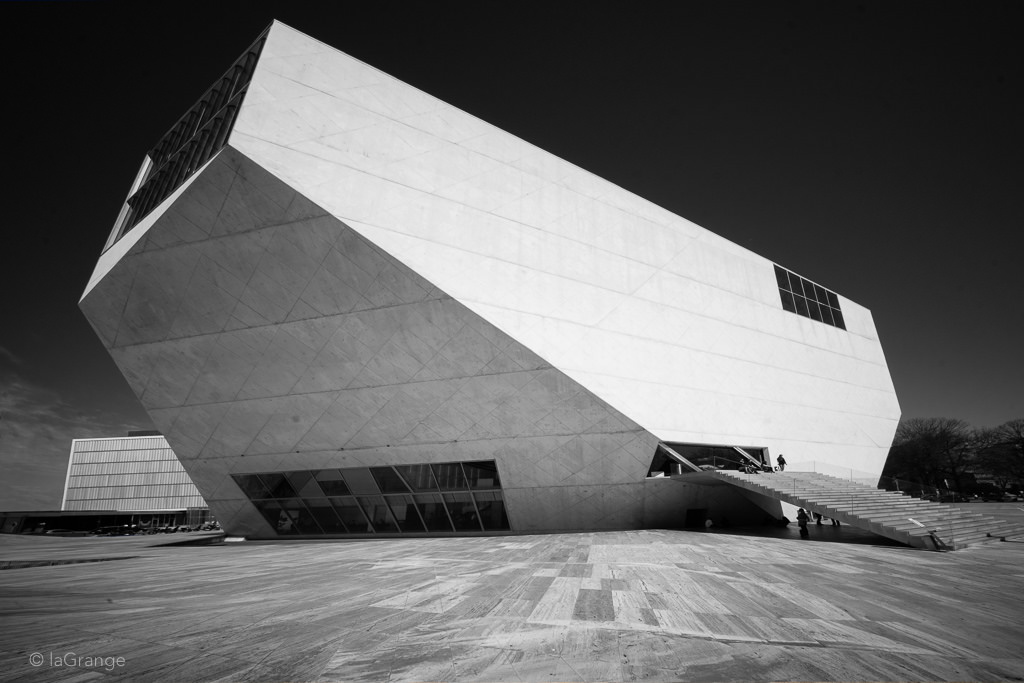musica: (74, 18, 903, 540)
